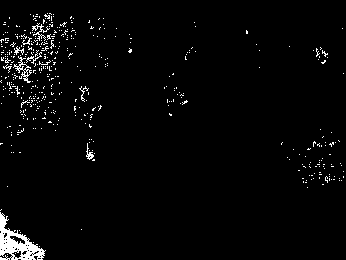person: (73, 87, 106, 163)
